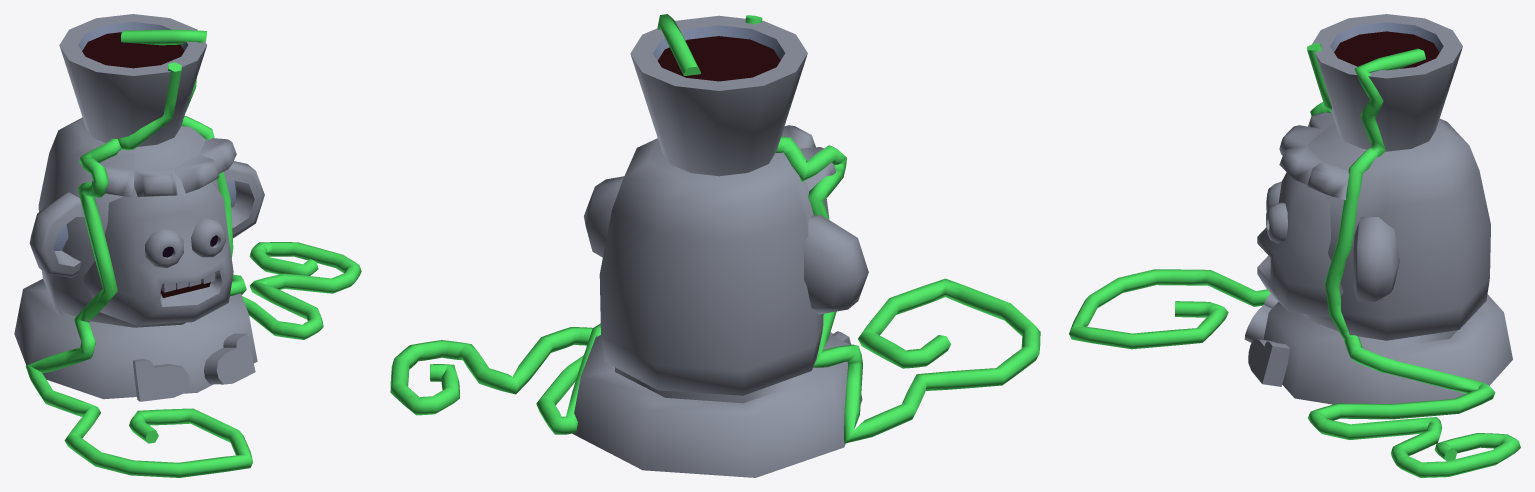
Rendered from MonkeyStatue.fbx.
The picture shows the model from 3 angles, left to right: view 1: azimuth 30°, elevation 25°; view 2: azimuth 150°, elevation 25°; view 3: azimuth 270°, elevation 25°; orthographic projection. The views are drawn at different scales.
Visible parts, largest first — view 1: monkey_statue; view 2: monkey_statue; view 3: monkey_statue.
Part boxes in pixels (bbox=[...]): monkey_statue: bbox=[14, 14, 361, 477]; monkey_statue: bbox=[390, 14, 1040, 477]; monkey_statue: bbox=[1069, 14, 1520, 477].
Size of the model in its own units: 94.92 by 71.29 by 90.71.
